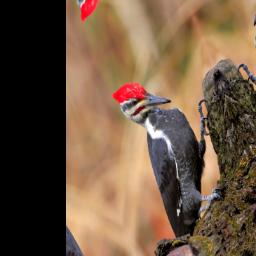Woodpecker: (111, 31, 244, 250)
